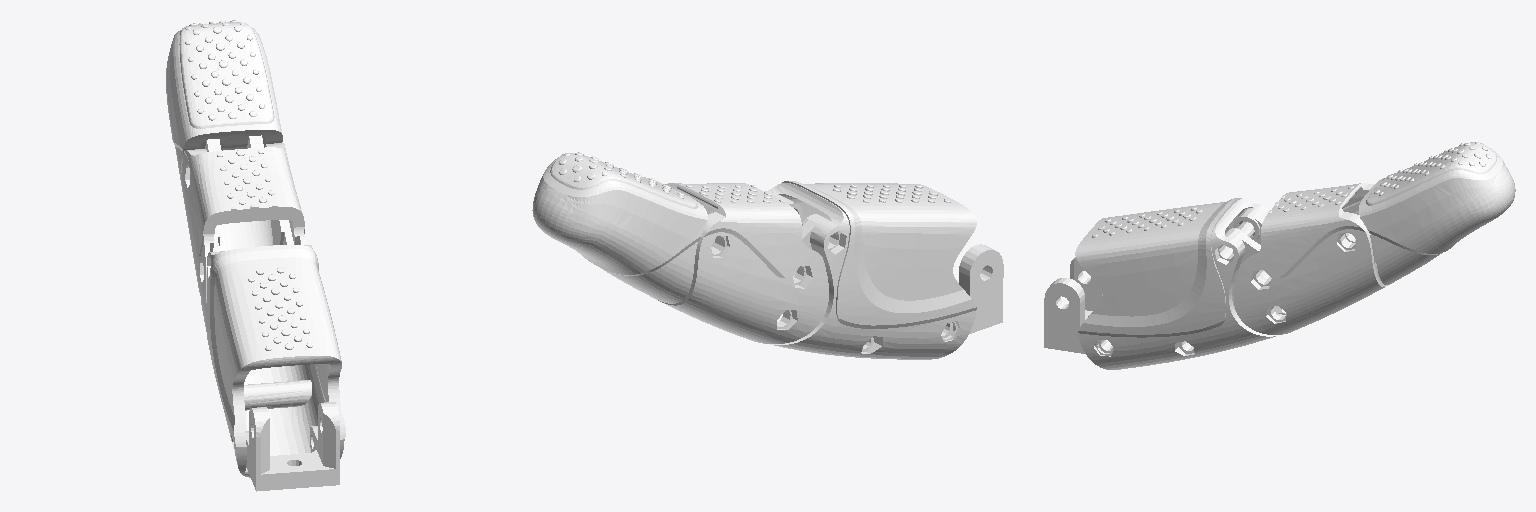
robot.urdf — urdf_right_12_20:
<?xml version="1.0" encoding="utf-8"?>
<!-- This URDF was automatically created by SolidWorks to URDF Exporter! Originally created by [author] ([email redacted]) 
     Commit Version: 1.6.0-4-g7f85cfe  Build Version: 1.6.7995.38578
     For more information, please see http://wiki.ros.org/sw_urdf_exporter -->
<robot
  name="urdf_right_12_20" xmlns:xacro="http://ros.org/wiki/xacro">
  
    <link name="world"/>

    <joint name="R_hand_base_joint" type="fixed">
      <origin
      xyz="0.5 0.5 0.001"
      rpy="3.14  0 1.57" />
      <parent link="world"/>
      <child link="base_link"/>
    </joint>
  
  <link
    name="base_link">
    <inertial>
      <origin
        xyz="-4.91696692515552E-05 -0.00297934158474353 -0.0724838074966582"
        rpy="0 0 0" />
      <mass
        value="0.260034351097693" />
      <inertia
        ixx="0.000240584294557413"
        ixy="1.12900341553271E-06"
        ixz="5.34716263010627E-07"
        iyy="0.000284423438713157"
        iyz="-1.41174524262487E-05"
        izz="0.000155854672271766" />
    </inertial>
    <visual>
      <origin
        xyz="0 0 0"
        rpy="0 0 0" />
      <geometry>
        <mesh
          filename="package://urdf_right_12_20/meshes/base_link.STL" />
      </geometry>
      <material
        name="">
        <color
          rgba="1 1 1 1" />
      </material>
    </visual>
    <collision>
      <origin
        xyz="0 0 0"
        rpy="0 0 0" />
      <geometry>
        <mesh
          filename="package://urdf_right_12_20/meshes/base_link.STL" />
      </geometry>
    </collision>
  </link>
  <link
    name="right_thumb_1">
    <inertial>
      <origin
        xyz="-0.00178423179132732 0.000649410769092404 0.00488589310434417"
        rpy="0 0 0" />
      <mass
        value="0.00115518743162309" />
      <inertia
        ixx="5.98911473694571E-08"
        ixy="-8.04324266712912E-09"
        ixz="-3.29346964287939E-09"
        iyy="4.07201940087006E-08"
        iyz="1.1987242259973E-09"
        izz="6.18161684388651E-08" />
    </inertial>
    <visual>
      <origin
        xyz="0 0 0"
        rpy="0 0 0" />
      <geometry>
        <mesh
          filename="package://urdf_right_12_20/meshes/right_thumb_1.STL" />
      </geometry>
      <material
        name="">
        <color
          rgba="1 1 1 1" />
      </material>
    </visual>
    <collision>
      <origin
        xyz="0 0 0"
        rpy="0 0 0" />
      <geometry>
        <mesh
          filename="package://urdf_right_12_20/meshes/right_thumb_1.STL" />
      </geometry>
    </collision>
  </link>
  <joint
    name="right_thumb_1_joint"
    type="revolute">
    <origin
      xyz="0.0269 0.02101 -0.069"
      rpy="-3.1416 0 -3.1416" />
    <parent
      link="base_link" />
    <child
      link="right_thumb_1" />
    <axis
      xyz="0 0 -1" />
    <limit
      lower="0"
      upper="1.15"
      effort="10"
      velocity="1" />
  </joint>
  <link
    name="right_thumb_2">
    <inertial>
      <origin
        xyz="0.0141071308121962 0.0132720367246953 -0.00905029680056009"
        rpy="0 0 0" />
      <mass
        value="0.016" />
      <inertia
        ixx="1.06573287501608E-06"
        ixy="-7.61985755293293E-08"
        ixz="-2.57609628655293E-11"
        iyy="1.06536320559038E-06"
        iyz="5.09603163270097E-12"
        izz="1.39688473195303E-06" />
    </inertial>
    <visual>
      <origin
        xyz="0 0 0"
        rpy="0 0 0" />
      <geometry>
        <mesh
          filename="package://urdf_right_12_20/meshes/right_thumb_2.STL" />
      </geometry>
      <material
        name="">
        <color
          rgba="1 1 1 1" />
      </material>
    </visual>
    <collision>
      <origin
        xyz="0 0 0"
        rpy="0 0 0" />
      <geometry>
        <mesh
          filename="package://urdf_right_12_20/meshes/right_thumb_2.STL" />
      </geometry>
    </collision>
  </link>
  <joint
    name="right_thumb_2_joint"
    type="revolute">
    <origin
      xyz="-0.0063016 0.011924 0.003"
      rpy="1.5708 0 2.7925" />
    <parent
      link="right_thumb_1" />
    <child
      link="right_thumb_2" />
    <axis
      xyz="0 0 1" />
    <limit
      lower="0"
      upper="0.55"
      effort="10"
      velocity="1" />
  </joint>
  <link
    name="right_thumb_3">
    <inertial>
      <origin
        xyz="0.00937843602210774 0.00404407714692963 -0.00753947150343212"
        rpy="0 0 0" />
      <mass
        value="0.012" />
      <inertia
        ixx="4.67837152048068E-07"
        ixy="-4.50034504480504E-08"
        ixz="-7.50604972036399E-11"
        iyy="3.98821847444202E-07"
        iyz="-2.80308780973008E-10"
        izz="4.24792779381109E-07" />
    </inertial>
    <visual>
      <origin
        xyz="0 0 0"
        rpy="0 0 0" />
      <geometry>
        <mesh
          filename="package://urdf_right_12_20/meshes/right_thumb_3.STL" />
      </geometry>
      <material
        name="">
        <color
          rgba="1 1 1 1" />
      </material>
    </visual>
    <collision>
      <origin
        xyz="0 0 0"
        rpy="0 0 0" />
      <geometry>
        <mesh
          filename="package://urdf_right_12_20/meshes/right_thumb_3.STL" />
      </geometry>
    </collision>
  </link>
  <joint
    name="right_thumb_3_joint"
    type="revolute">
    <origin
      xyz="0.034968 0.021325 -0.0015"
      rpy="0 0 0" />
    <parent
      link="right_thumb_2" />
    <child
      link="right_thumb_3" />
    <axis
      xyz="0 0 1" />
    <limit
      lower="0"
      upper="3.14"
      effort="10"
      velocity="1" />
    <mimic
        joint="right_thumb_2_joint"
        multiplier="0.60"
        offset="0" />
  </joint>
  <link
    name="right_thumb_4">
    <inertial>
      <origin
        xyz="0.0109973997213043 0.00131062737520288 -0.0073435196000655"
        rpy="0 0 0" />
      <mass
        value="0.01" />
      <inertia
        ixx="6.43617695804108E-07"
        ixy="-2.57371067432159E-07"
        ixz="8.83834214745077E-10"
        iyy="7.63665185138253E-07"
        iyz="7.47494238463672E-10"
        izz="9.2568863295396E-07" />
    </inertial>
    <visual>
      <origin
        xyz="0 0 0"
        rpy="0 0 0" />
      <geometry>
        <mesh
          filename="package://urdf_right_12_20/meshes/right_thumb_4.STL" />
      </geometry>
      <material
        name="">
        <color
          rgba="1 1 1 1" />
      </material>
    </visual>
    <collision>
      <origin
        xyz="0 0 0"
        rpy="0 0 0" />
      <geometry>
        <mesh
          filename="package://urdf_right_12_20/meshes/right_thumb_4.STL" />
      </geometry>
    </collision>
  </link>
  <joint
    name="right_thumb_4_joint"
    type="revolute">
    <origin
      xyz="0.018887 0.011501 -0.0002"
      rpy="0 0 0" />
    <parent
      link="right_thumb_3" />
    <child
      link="right_thumb_4" />
    <axis
      xyz="0 0 1" />
    <limit
      lower="0"
      upper="3.14"
      effort="10"
      velocity="1" />
    <mimic
        joint="right_thumb_2_joint"
        multiplier="0.8"
        offset="0" />
  </joint>
  <link
    name="right_index_1">
    <inertial>
      <origin
        xyz="-0.00183546255523356 0.0123552521861834 -0.00664922294778368"
        rpy="0 0 0" />
      <mass
        value="0.00719999389753264" />
      <inertia
        ixx="1.28371991025318E-06"
        ixy="4.21564829206078E-08"
        ixz="-4.10859703056649E-12"
        iyy="5.79478432222904E-07"
        iyz="6.39690407239206E-11"
        izz="1.32925246769088E-06" />
    </inertial>
    <visual>
      <origin
        xyz="0 0 0"
        rpy="0 0 0" />
      <geometry>
        <mesh
          filename="package://urdf_right_12_20/meshes/right_index_1.STL" />
      </geometry>
      <material
        name="">
        <color
          rgba="1 1 1 1" />
      </material>
    </visual>
    <collision>
      <origin
        xyz="0 0 0"
        rpy="0 0 0" />
      <geometry>
        <mesh
          filename="package://urdf_right_12_20/meshes/right_index_1.STL" />
      </geometry>
    </collision>
  </link>
  <joint
    name="right_index_1_joint"
    type="revolute">
    <origin
      xyz="0.038679 0.00056467 -0.1564"
      rpy="-1.5359 0 -1.5708" />
    <parent
      link="base_link" />
    <child
      link="right_index_1" />
    <axis
      xyz="0 0 1" />
    <limit
      lower="0"
      upper="1.6"
      effort="10"
      velocity="1" />
  </joint>
  <link
    name="right_index_2">
    <inertial>
      <origin
        xyz="0.000405081354201142 0.0257028143581744 -0.00609275623125877"
        rpy="0 0 0" />
      <mass
        value="0.0096859422185797" />
      <inertia
        ixx="2.25513837942244E-06"
        ixy="4.11239564383381E-07"
        ixz="-3.94499739658711E-10"
        iyy="3.91290903748666E-07"
        iyz="2.79706871963245E-09"
        izz="2.30200483771215E-06" />
    </inertial>
    <visual>
      <origin
        xyz="0 0 0"
        rpy="0 0 0" />
      <geometry>
        <mesh
          filename="package://urdf_right_12_20/meshes/right_index_2.STL" />
      </geometry>
      <material
        name="">
        <color
          rgba="1 1 1 1" />
      </material>
    </visual>
    <collision>
      <origin
        xyz="0 0 0"
        rpy="0 0 0" />
      <geometry>
        <mesh
          filename="package://urdf_right_12_20/meshes/right_index_2.STL" />
      </geometry>
    </collision>
  </link>
  <joint
    name="right_index_2_joint"
    type="revolute">
    <origin
      xyz="-0.0016312 0.032734 -0.00055"
      rpy="0 0 0" />
    <parent
      link="right_index_1" />
    <child
      link="right_index_2" />
    <axis
      xyz="0 0 1" />
    <limit
      lower="0"
      upper="3.14"
      effort="10"
      velocity="1" />
    <mimic
        joint="right_index_1_joint"
        multiplier="1.05"
        offset="0" />
  </joint>
  <link
    name="right_middle_1">
    <inertial>
      <origin
        xyz="-0.00229221489529491 0.0122787164691098 -0.00664923691414206"
        rpy="0 0 0" />
      <mass
        value="0.00719999454699651" />
      <inertia
        ixx="1.27961146095209E-06"
        ixy="6.81307502326408E-08"
        ixz="-6.13869092479439E-12"
        iyy="5.83570383259162E-07"
        iyz="6.33401074034573E-11"
        izz="1.32923656099557E-06" />
    </inertial>
    <visual>
      <origin
        xyz="0 0 0"
        rpy="0 0 0" />
      <geometry>
        <mesh
          filename="package://urdf_right_12_20/meshes/right_middle_1.STL" />
      </geometry>
      <material
        name="">
        <color
          rgba="1 1 1 1" />
      </material>
    </visual>
    <collision>
      <origin
        xyz="0 0 0"
        rpy="0 0 0" />
      <geometry>
        <mesh
          filename="package://urdf_right_12_20/meshes/right_middle_1.STL" />
      </geometry>
    </collision>
  </link>
  <joint
    name="right_middle_1_joint"
    type="revolute">
    <origin
      xyz="0.0171 0.00056467 -0.157"
      rpy="-1.5708 0 -1.5708" />
    <parent
      link="base_link" />
    <child
      link="right_middle_1" />
    <axis
      xyz="0 0 1" />
    <limit
      lower="0"
      upper="1.6"
      effort="10"
      velocity="1" />
  </joint>
  <link
    name="right_middle_2">
    <inertial>
      <origin
        xyz="7.55635061812504E-05 0.0274472409700489 -0.00610051225570537"
        rpy="0 0 0" />
      <mass
        value="0.0104603374357648" />
      <inertia
        ixx="2.75802690517233E-06"
        ixy="4.66354191789105E-07"
        ixz="-3.73412436067728E-12"
        iyy="4.22418749660047E-07"
        iyz="7.48571284682703E-11"
        izz="2.80694637912416E-06" />
    </inertial>
    <visual>
      <origin
        xyz="0 0 0"
        rpy="0 0 0" />
      <geometry>
        <mesh
          filename="package://urdf_right_12_20/meshes/right_middle_2.STL" />
      </geometry>
      <material
        name="">
        <color
          rgba="1 1 1 1" />
      </material>
    </visual>
    <collision>
      <origin
        xyz="0 0 0"
        rpy="0 0 0" />
      <geometry>
        <mesh
          filename="package://urdf_right_12_20/meshes/right_middle_2.STL" />
      </geometry>
    </collision>
  </link>
  <joint
    name="right_middle_2_joint"
    type="revolute">
    <origin
      xyz="-0.0028436 0.032651 -0.00055"
      rpy="0 0 0" />
    <parent
      link="right_middle_1" />
    <child
      link="right_middle_2" />
    <axis
      xyz="0 0 1" />
    <limit
      lower="0"
      upper="3.14"
      effort="10"
      velocity="1" />
    <mimic
        joint="right_middle_1_joint"
        multiplier="1.05"
        offset="0" />
  </joint>
  <link
    name="right_ring_1">
    <inertial>
      <origin
        xyz="-0.00240481178777661 0.0122571709475593 -0.00664923625225445"
        rpy="0 0 0" />
      <mass
        value="0.00719998997814135" />
      <inertia
        ixx="1.27830103769765E-06"
        ixy="7.45073064952646E-08"
        ixz="-6.73880804360017E-12"
        iyy="5.84879553082369E-07"
        iyz="6.3350585052199E-11"
        izz="1.32923557625193E-06" />
    </inertial>
    <visual>
      <origin
        xyz="0 0 0"
        rpy="0 0 0" />
      <geometry>
        <mesh
          filename="package://urdf_right_12_20/meshes/right_ring_1.STL" />
      </geometry>
      <material
        name="">
        <color
          rgba="1 1 1 1" />
      </material>
    </visual>
    <collision>
      <origin
        xyz="0 0 0"
        rpy="0 0 0" />
      <geometry>
        <mesh
          filename="package://urdf_right_12_20/meshes/right_ring_1.STL" />
      </geometry>
    </collision>
  </link>
  <joint
    name="right_ring_1_joint"
    type="revolute">
    <origin
      xyz="-0.0045302 0.00056467 -0.15683"
      rpy="-1.6232 0 -1.5708" />
    <parent
      link="base_link" />
    <child
      link="right_ring_1" />
    <axis
      xyz="0 0 1" />
    <limit
      lower="0"
      upper="1.6"
      effort="10"
      velocity="1" />
  </joint>
  <link
    name="right_ring_2">
    <inertial>
      <origin
        xyz="0.000666830906754845 0.0256973412492289 -0.0060927714564012"
        rpy="0 0 0" />
      <mass
        value="0.0096859390369724" />
      <inertia
        ixx="2.26332196405867E-06"
        ixy="3.92172318180451E-07"
        ixz="-3.65715440420713E-10"
        iyy="3.83108005467821E-07"
        iyz="2.80158649618184E-09"
        izz="2.30200501593561E-06" />
    </inertial>
    <visual>
      <origin
        xyz="0 0 0"
        rpy="0 0 0" />
      <geometry>
        <mesh
          filename="package://urdf_right_12_20/meshes/right_ring_2.STL" />
      </geometry>
      <material
        name="">
        <color
          rgba="1 1 1 1" />
      </material>
    </visual>
    <collision>
      <origin
        xyz="0 0 0"
        rpy="0 0 0" />
      <geometry>
        <mesh
          filename="package://urdf_right_12_20/meshes/right_ring_2.STL" />
      </geometry>
    </collision>
  </link>
  <joint
    name="right_ring_2_joint"
    type="revolute">
    <origin
      xyz="-0.0031431 0.032624 -0.00055"
      rpy="0 0 0" />
    <parent
      link="right_ring_1" />
    <child
      link="right_ring_2" />
    <axis
      xyz="0 0 1" />
    <limit
      lower="0"
      upper="3.14"
      effort="10"
      velocity="1" />
    <mimic
        joint="right_ring_1_joint"
        multiplier="1.05"
        offset="0" />
  </joint>
  <link
    name="right_little_1">
    <inertial>
      <origin
        xyz="-0.00316844591541324 0.0120823779446085 -0.00664923024026526"
        rpy="0 0 0" />
      <mass
        value="0.00719994987013217" />
      <inertia
        ixx="1.26624415714453E-06"
        ixy="1.17303714016617E-07"
        ixz="-1.15327375313821E-11"
        iyy="5.96925804604496E-07"
        iyz="6.36110319315301E-11"
        izz="1.32922857962206E-06" />
    </inertial>
    <visual>
      <origin
        xyz="0 0 0"
        rpy="0 0 0" />
      <geometry>
        <mesh
          filename="package://urdf_right_12_20/meshes/right_little_1.STL" />
      </geometry>
      <material
        name="">
        <color
          rgba="1 1 1 1" />
      </material>
    </visual>
    <collision>
      <origin
        xyz="0 0 0"
        rpy="0 0 0" />
      <geometry>
        <mesh
          filename="package://urdf_right_12_20/meshes/right_little_1.STL" />
      </geometry>
    </collision>
  </link>
  <joint
    name="right_little_1_joint"
    type="revolute">
    <origin
      xyz="-0.025916 0.00056467 -0.15365"
      rpy="-1.6755 0 -1.5708" />
    <parent
      link="base_link" />
    <child
      link="right_little_1" />
    <axis
      xyz="0 0 1" />
    <limit
      lower="0"
      upper="1.6"
      effort="10"
      velocity="1" />
  </joint>
  <link
    name="right_little_2">
    <inertial>
      <origin
        xyz="0.0204417303421136 -0.00469494170410353 -0.00609999668427265"
        rpy="0 0 0" />
      <mass
        value="0.0075928240732547" />
      <inertia
        ixx="2.31546812157118E-07"
        ixy="-7.27021381773956E-08"
        ixz="2.3664966486269E-11"
        iyy="1.27663957628266E-06"
        iyz="-7.58283070676144E-12"
        izz="1.23909562166535E-06" />
    </inertial>
    <visual>
      <origin
        xyz="0 0 0"
        rpy="0 0 0" />
      <geometry>
        <mesh
          filename="package://urdf_right_12_20/meshes/right_little_2.STL" />
      </geometry>
      <material
        name="">
        <color
          rgba="1 1 1 1" />
      </material>
    </visual>
    <collision>
      <origin
        xyz="0 0 0"
        rpy="0 0 0" />
      <geometry>
        <mesh
          filename="package://urdf_right_12_20/meshes/right_little_2.STL" />
      </geometry>
    </collision>
  </link>
  <joint
    name="right_little_2_joint"
    type="revolute">
    <origin
      xyz="-0.005182 0.032363 -0.00055"
      rpy="0 0 1.5708" />
    <parent
      link="right_little_1" />
    <child
      link="right_little_2" />
    <axis
      xyz="0 0 1" />
    <limit
      lower="0"
      upper="3.14"
      effort="10"
      velocity="1" />
    <mimic
        joint="right_little_1_joint"
        multiplier="1.18"
        offset="0" />  
  </joint>
</robot>

--- What the picture shows (computed from the rendered views, not written in the file) ---
The picture shows the robot from 3 angles, left to right: view 1: azimuth 30°, elevation 25°; view 2: azimuth 150°, elevation 25°; view 3: azimuth 270°, elevation 25°; orthographic projection.
Robot: urdf_right_12_20 — 14 links, 13 joints (12 revolute, 1 fixed); root link world; default pose: every joint at zero.
Links seen in each view (by area): view 1: right_thumb_2, right_thumb_4, right_thumb_3, right_thumb_1; view 2: right_thumb_2, right_thumb_3, right_thumb_4, right_thumb_1; view 3: right_thumb_2, right_thumb_3, right_thumb_4, right_thumb_1.
Boxes of the visible links, left/top/right/bottom form: right_thumb_2: left=206, top=245, right=345, bottom=477; right_thumb_4: left=166, top=20, right=282, bottom=179; right_thumb_3: left=181, top=143, right=306, bottom=331; right_thumb_1: left=245, top=402, right=339, bottom=491; right_thumb_2: left=767, top=181, right=976, bottom=359; right_thumb_3: left=658, top=183, right=828, bottom=343; right_thumb_4: left=532, top=152, right=714, bottom=303; right_thumb_1: left=941, top=244, right=1003, bottom=337; right_thumb_2: left=1075, top=198, right=1285, bottom=369; right_thumb_3: left=1234, top=183, right=1387, bottom=334; right_thumb_4: left=1345, top=142, right=1515, bottom=284; right_thumb_1: left=1044, top=257, right=1112, bottom=353.
Size in the robot's own frame: 0.0485 by 0.0986 by 0.0612 metres.
4 mesh visuals loaded from 13 distinct referenced files (4 binary STL); not drawn: 9 (reference not matched to a file when rendering).